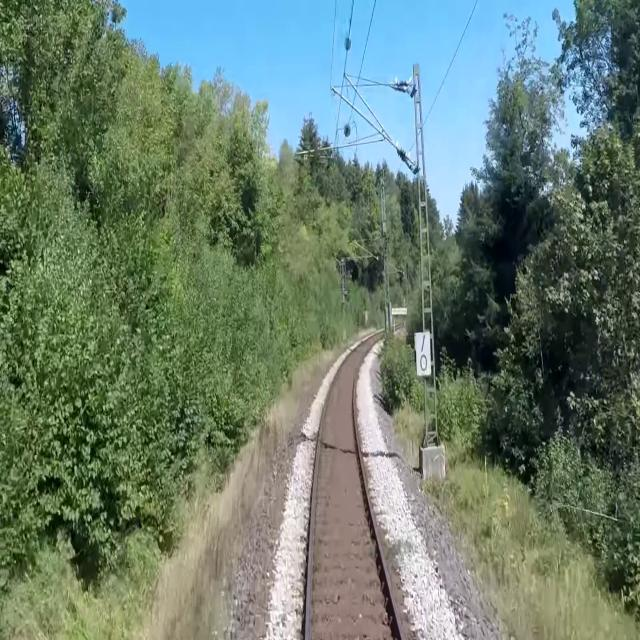rail-track: (309, 336, 400, 639)
